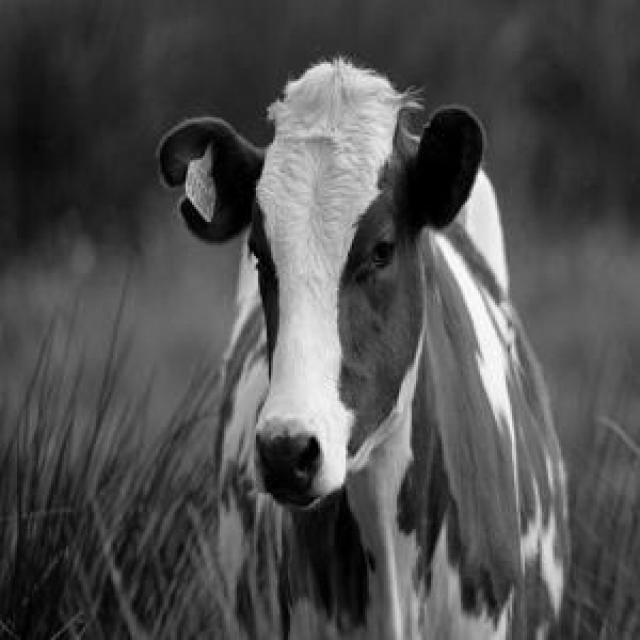cow: (160, 60, 569, 640)
